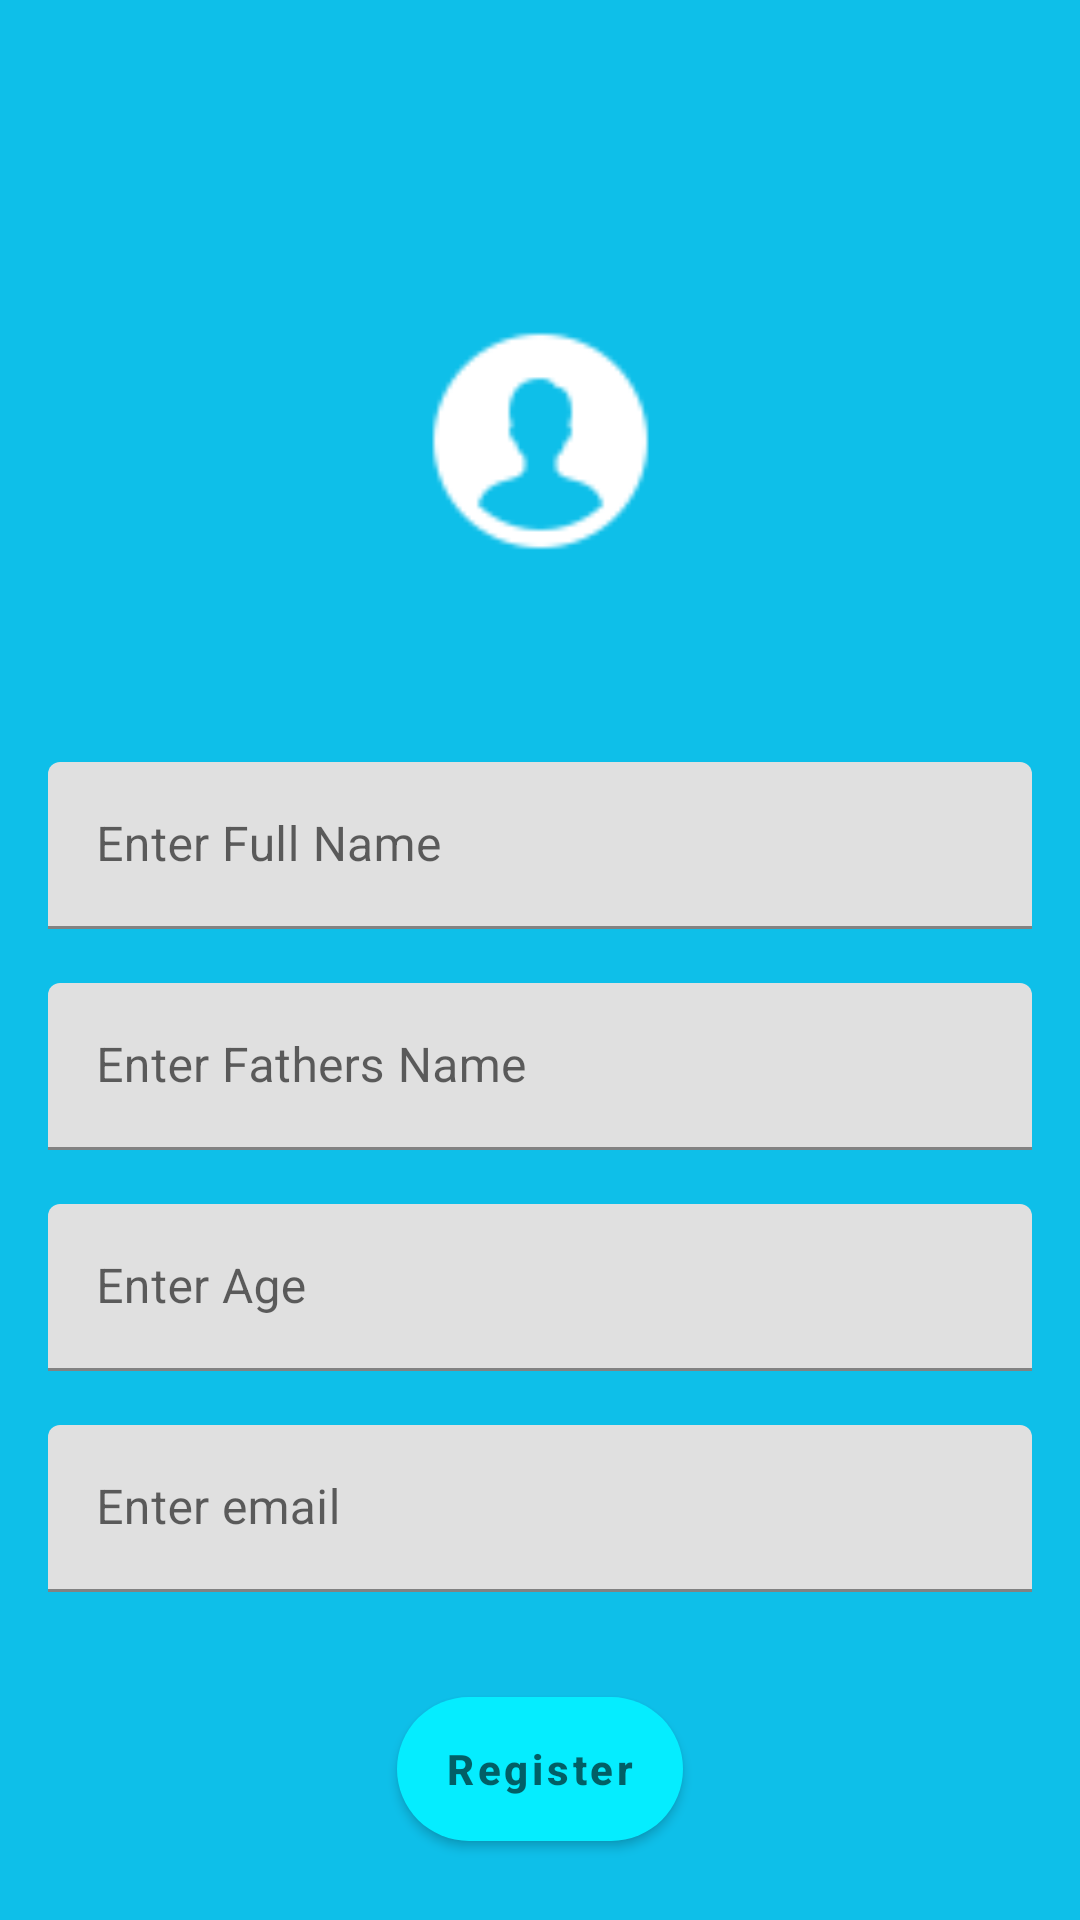

Point at icon controls on the screen. Image size 1080 x 1920, points as (x=x, y=y).
profile: (x=540, y=441)
